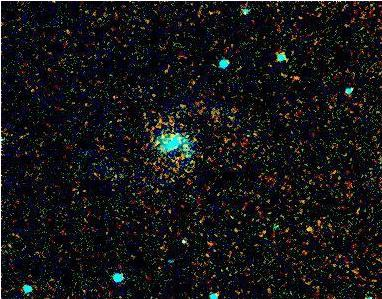star: (298, 213, 328, 243)
